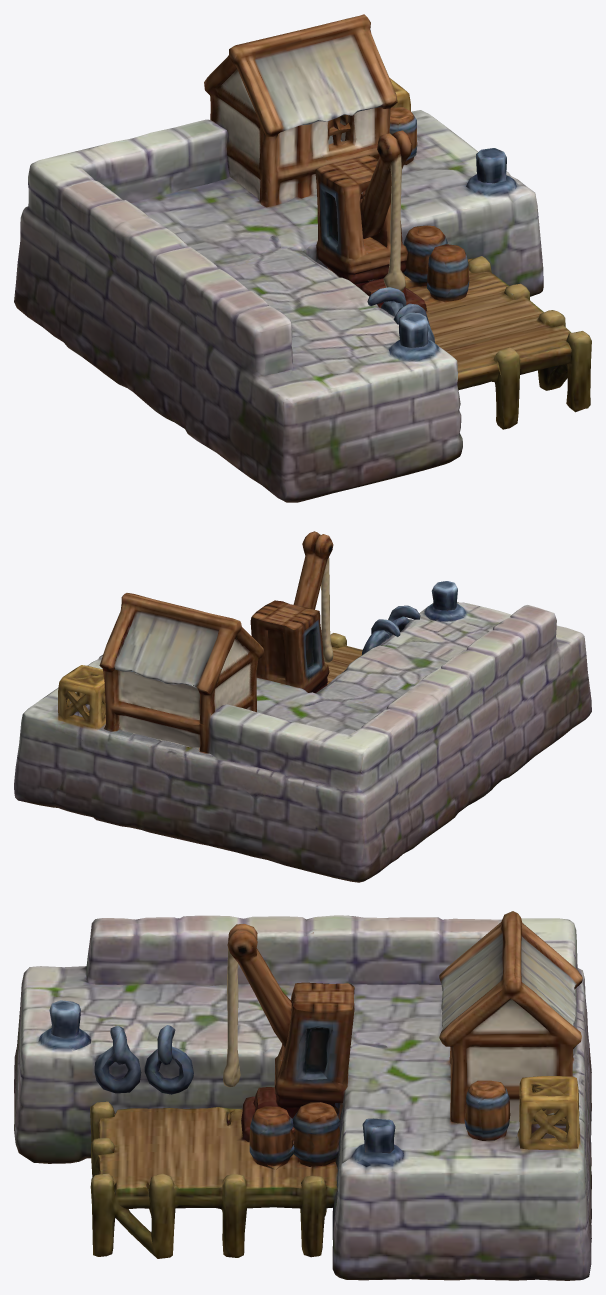
Rendered from harbour_b.glb.
The picture shows the model from 3 angles, top to bottom: view 1: azimuth 30°, elevation 25°; view 2: azimuth 150°, elevation 25°; view 3: azimuth 270°, elevation 25°; orthographic projection. The views are drawn at different scales.
Parts seen in each view (by area): view 1: world; view 2: world; view 3: world.
Boxes of the visible parts, box(x1,y1,x2,y2) form: world: box(14, 14, 591, 502); world: box(14, 531, 591, 882); world: box(14, 911, 591, 1280).
Size of the model in its own units: 0.8825 by 0.5163 by 1.
1 material, 1 textured.
